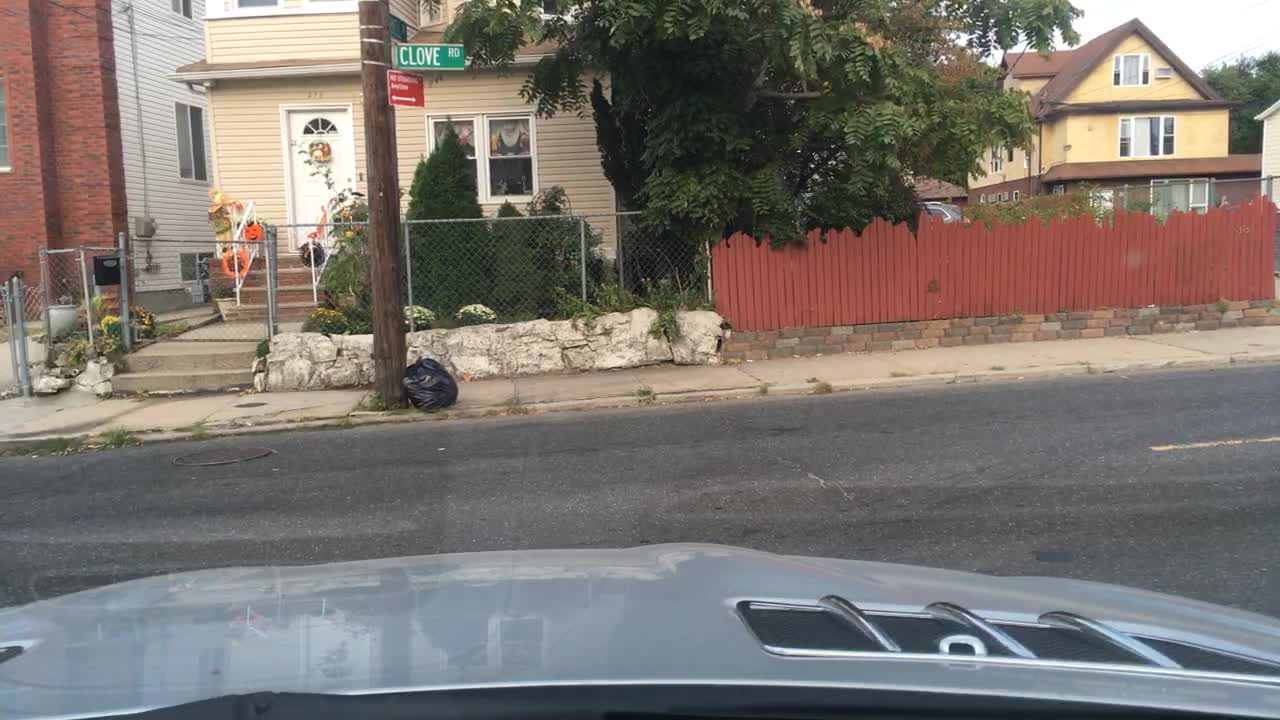car: (619, 222, 707, 304), (916, 198, 963, 227)
traffic sign: (391, 41, 465, 70), (386, 68, 424, 105), (385, 14, 406, 42)
